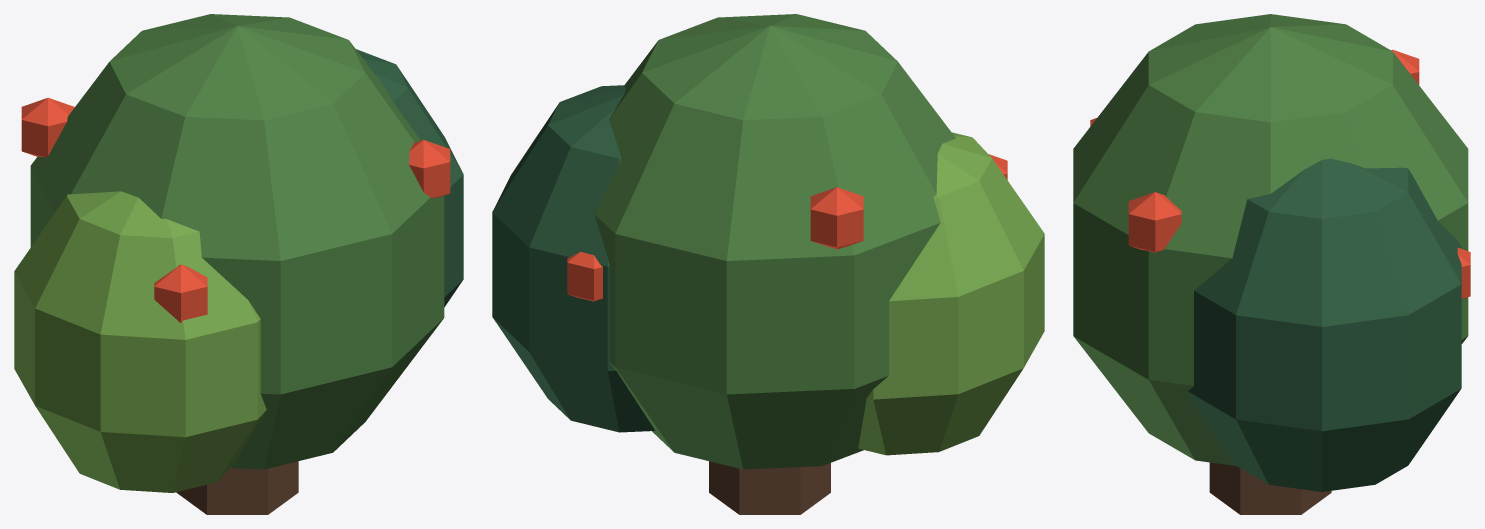
The model's file is bush.glb.
3 views of the same model, side by side, from view 1: azimuth 30°, elevation 25°; view 2: azimuth 150°, elevation 25°; view 3: azimuth 270°, elevation 25° (orthographic).
Visible parts, largest first — view 1: Bush_round_foliage, Bush_round_foliage.001, Bush_round_foliage.002, Bush_woody_stem, Bush_red_berry, Bush_red_berry.003, Bush_red_berry.001; view 2: Bush_round_foliage, Bush_round_foliage.001, Bush_round_foliage.002, Bush_woody_stem, Bush_red_berry.003, Bush_red_berry.002; view 3: Bush_round_foliage, Bush_round_foliage.002, Bush_woody_stem, Bush_red_berry.001, Bush_red_berry.002.
Part boxes in pixels (box(x1,y1,x2,y2)): Bush_round_foliage: box(30, 14, 444, 469); Bush_round_foliage.001: box(14, 191, 266, 492); Bush_round_foliage.002: box(356, 49, 463, 307); Bush_woody_stem: box(176, 461, 298, 514); Bush_red_berry: box(154, 264, 207, 322); Bush_red_berry.003: box(21, 97, 74, 157); Bush_red_berry.001: box(409, 139, 450, 197); Bush_round_foliage: box(594, 14, 955, 469); Bush_round_foliage.001: box(858, 132, 1044, 455); Bush_round_foliage.002: box(492, 85, 655, 432); Bush_woody_stem: box(709, 461, 830, 514); Bush_red_berry.003: box(810, 187, 863, 249); Bush_red_berry.002: box(567, 252, 602, 301); Bush_round_foliage: box(1073, 14, 1468, 465); Bush_round_foliage.002: box(1188, 158, 1461, 491); Bush_woody_stem: box(1209, 462, 1331, 514); Bush_red_berry.001: box(1128, 192, 1181, 252); Bush_red_berry.002: box(1457, 247, 1470, 299).
Bounding box in the file's own units: 0.8275 × 0.8 × 0.6188.
